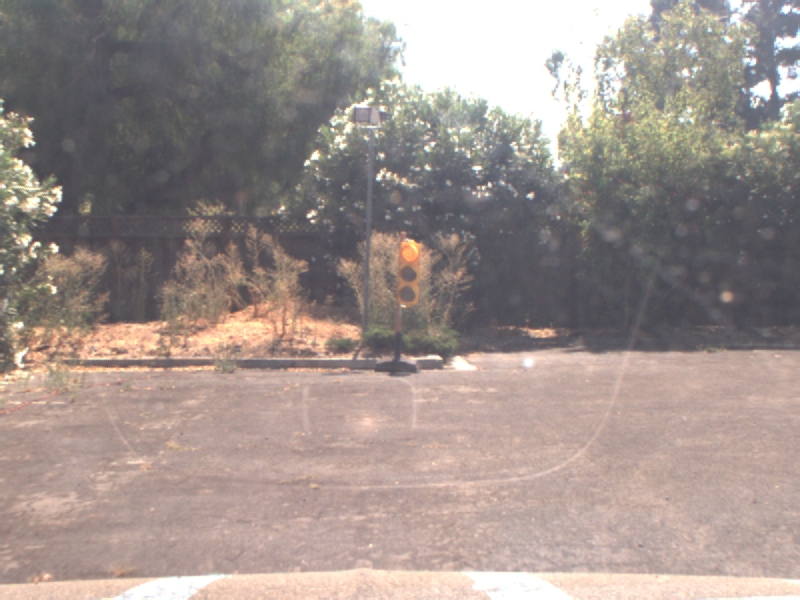red: (394, 235, 422, 308)
